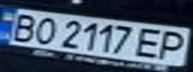1: (78, 19, 100, 52), (97, 21, 118, 53)
2: (54, 17, 84, 50)
7: (112, 22, 139, 55)
B: (3, 11, 42, 43)
E: (133, 25, 172, 60)
O: (27, 15, 60, 45)
P: (151, 28, 193, 61)
